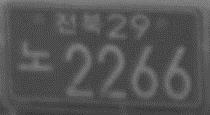2: (63, 43, 94, 98), (98, 44, 128, 100), (106, 12, 128, 41)
6: (162, 44, 192, 100), (131, 45, 158, 98)
9: (131, 14, 151, 40)
노: (17, 39, 53, 73)
전북_O: (53, 12, 102, 35)
